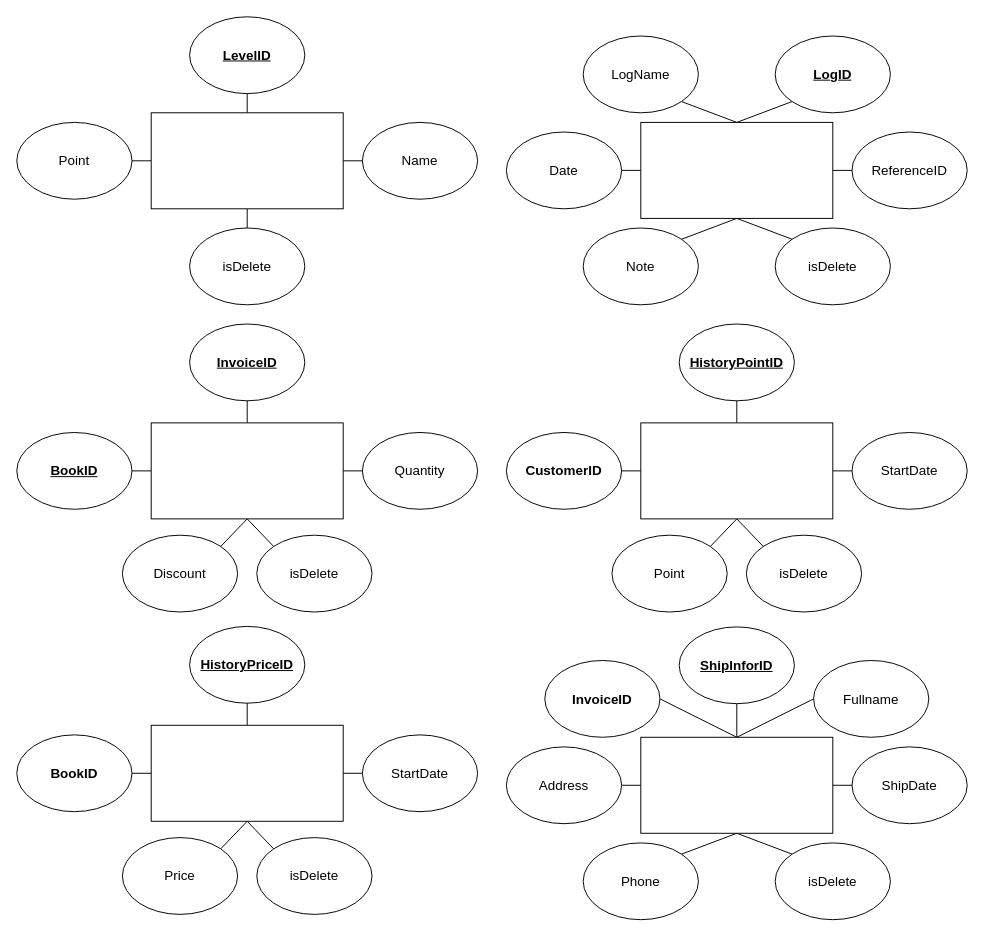
The diagram is 984 pixels wide and 937 high, and some of its shapes have lost their labels. The centre of each missing label's shape, as x and y in pixels:
HistoryPoints: [736,470]
HistoryPrices: [246,772]
InvoiceDetails: [246,470]
Level: [246,160]
Logs: [736,169]
ShipInfors: [736,784]
